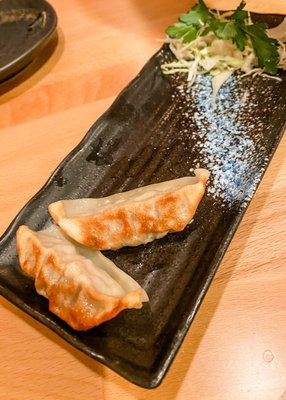curry: (0, 1, 286, 384)
